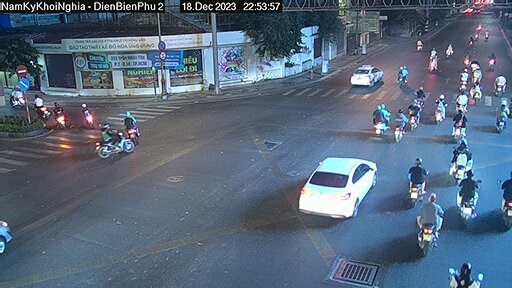car: (297, 149, 381, 220), (349, 63, 386, 90)
motorbike: (96, 123, 134, 158), (418, 197, 440, 253), (405, 156, 429, 207), (460, 177, 482, 227), (370, 98, 392, 136), (436, 93, 450, 127), (393, 110, 406, 139)
